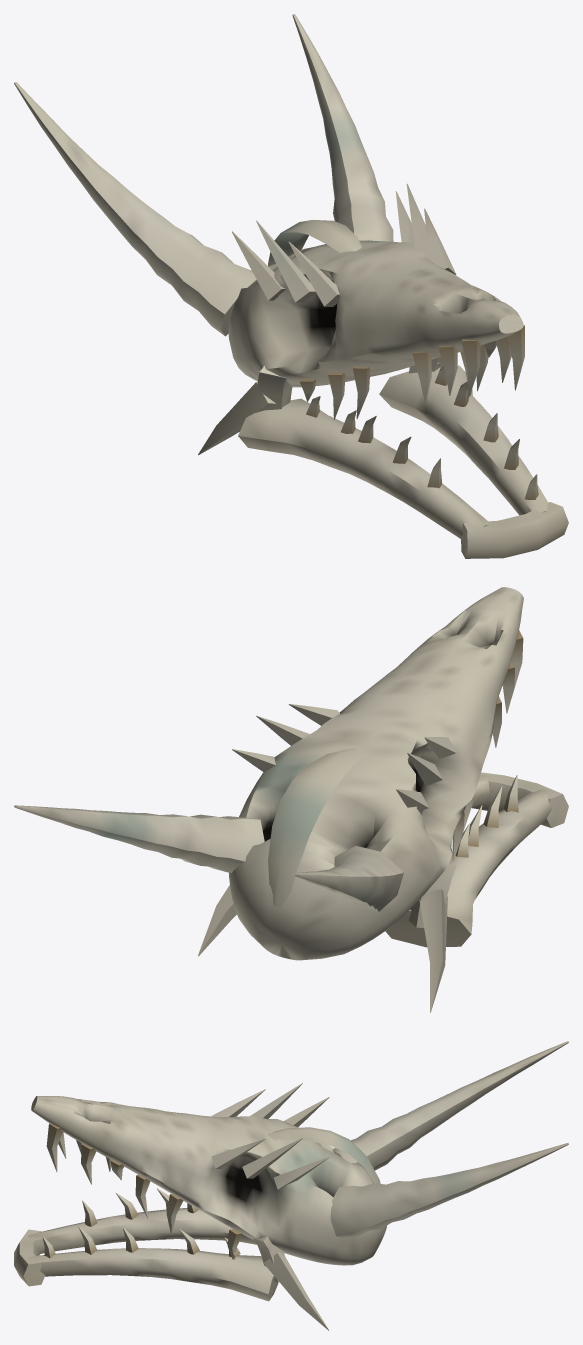
The model's file is giant_skull_lod1.glb.
3 views of the same model, one above another, from view 1: azimuth 30°, elevation 25°; view 2: azimuth 150°, elevation 25°; view 3: azimuth 270°, elevation 25° (orthographic). The views are drawn at different scales.
Visible parts, largest first — view 1: GiantSkull; view 2: GiantSkull; view 3: GiantSkull.
Part boxes in pixels (x1,y1,x2,y2): GiantSkull: (14, 14, 568, 558); GiantSkull: (14, 587, 568, 1012); GiantSkull: (14, 1041, 568, 1330).
Bounding box in the file's own units: 7.27 × 6.47 × 16.58.
